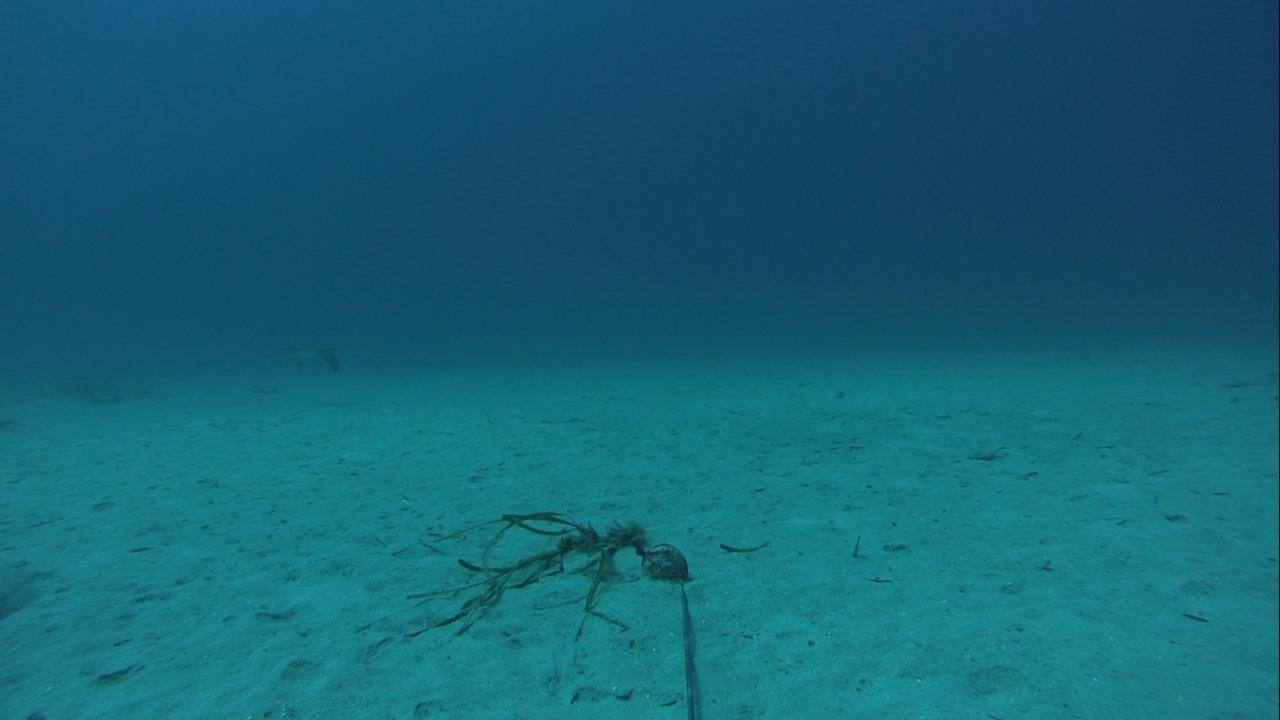myliobatis: (191, 328, 345, 378)
